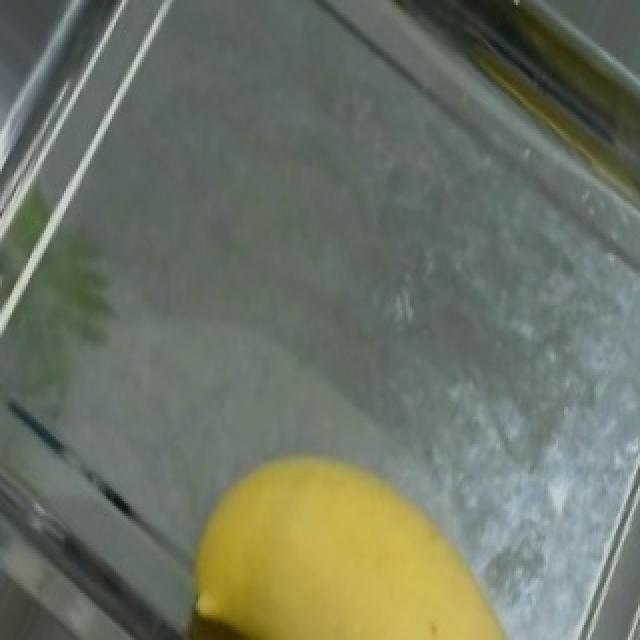fruit: (146, 397, 546, 640)
